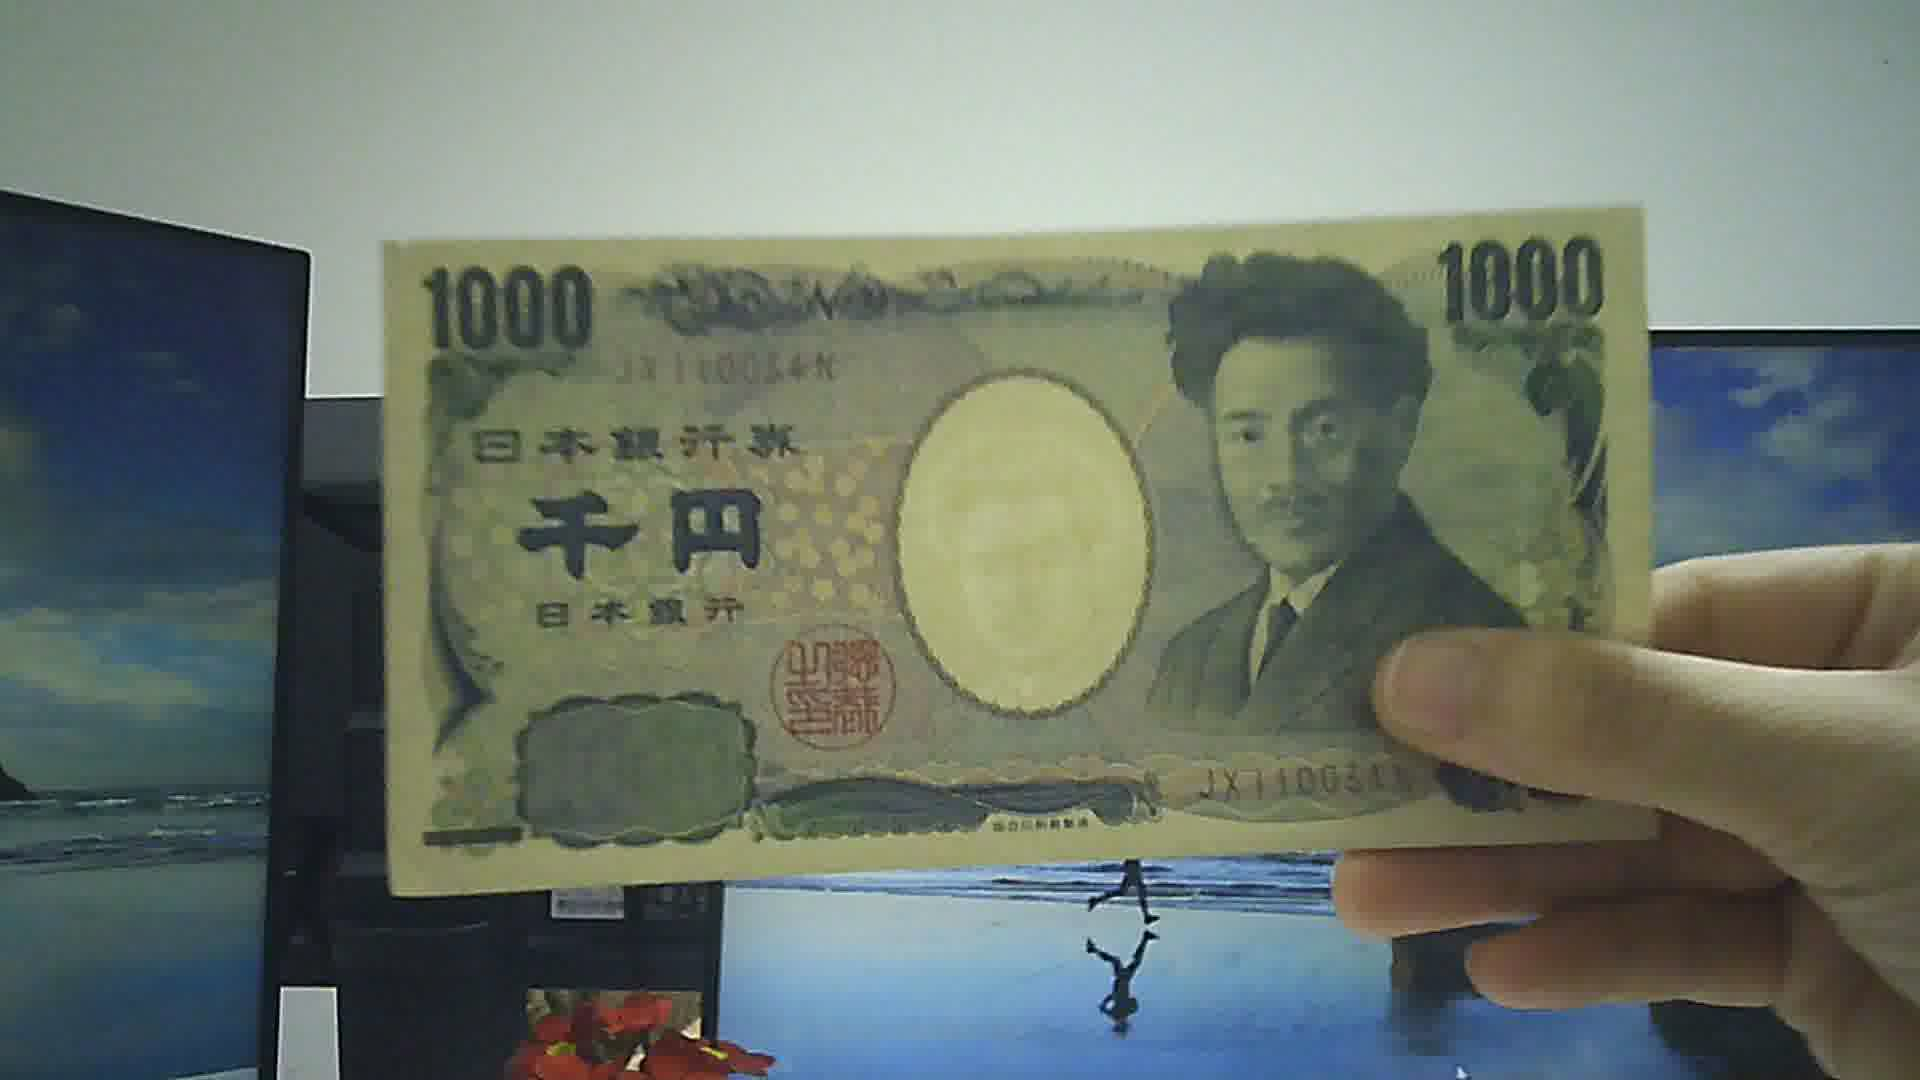1,000 Yen: (369, 216, 1660, 843)
